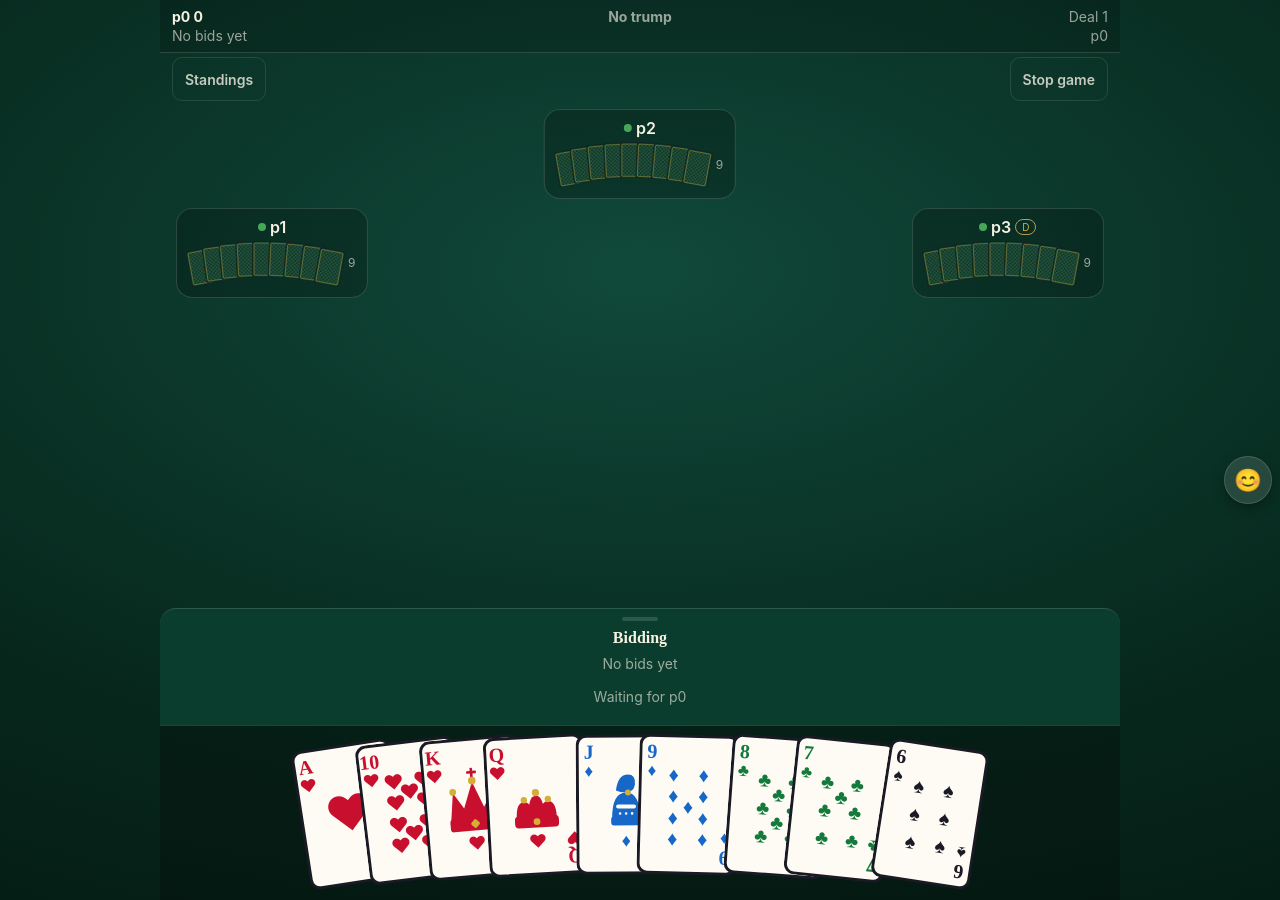
Test: host stop game › the host stops the game only after confirming; cancel aborts
// Opening the confirm does NOT stop the game on its own.
Click the button "Stop game" at [1059, 79], box [1010, 57, 1108, 101]
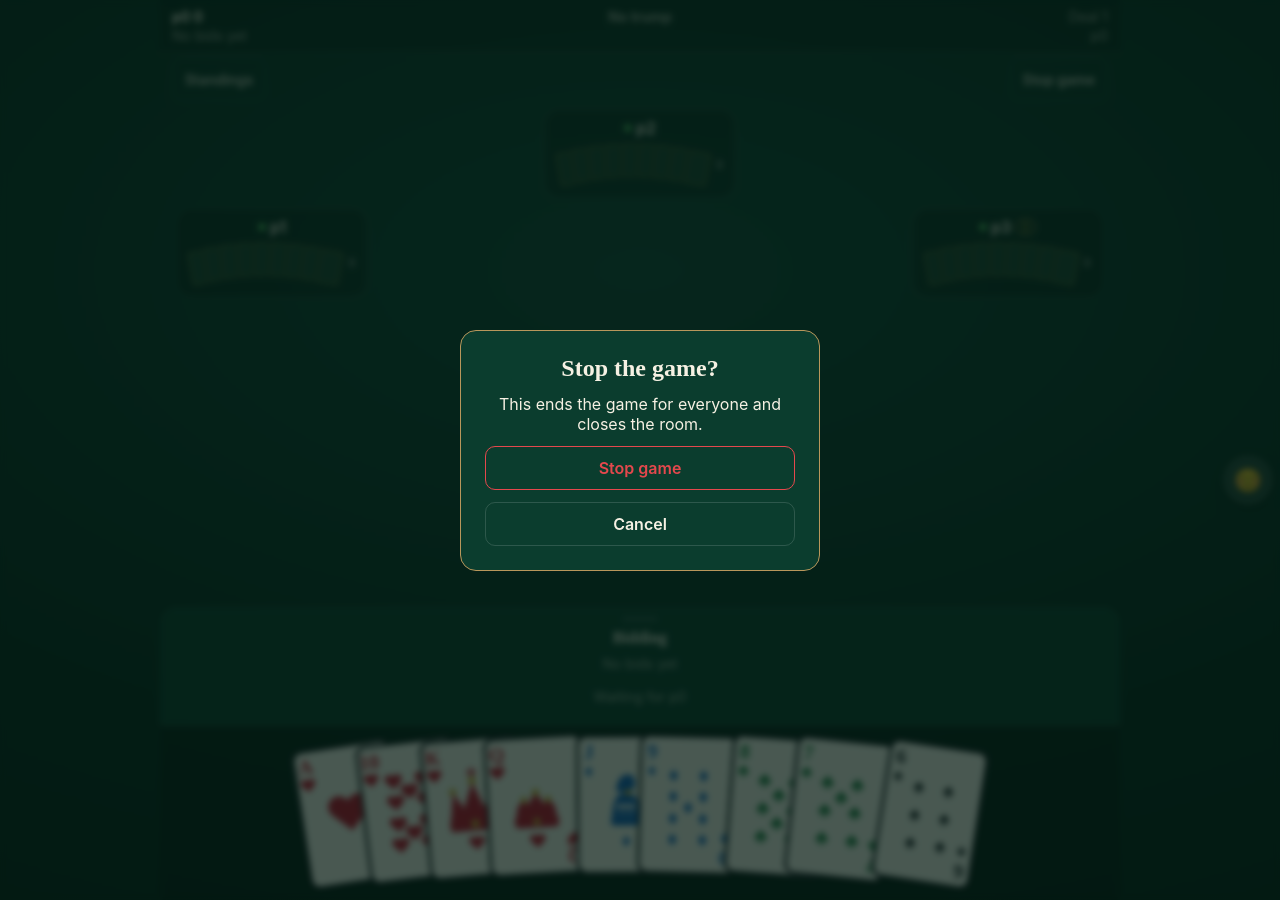
Expected: the heading "Stop the game?" is shown, [561, 354, 719, 380]
Click the button "Cancel" at [640, 524], box [485, 502, 795, 546]
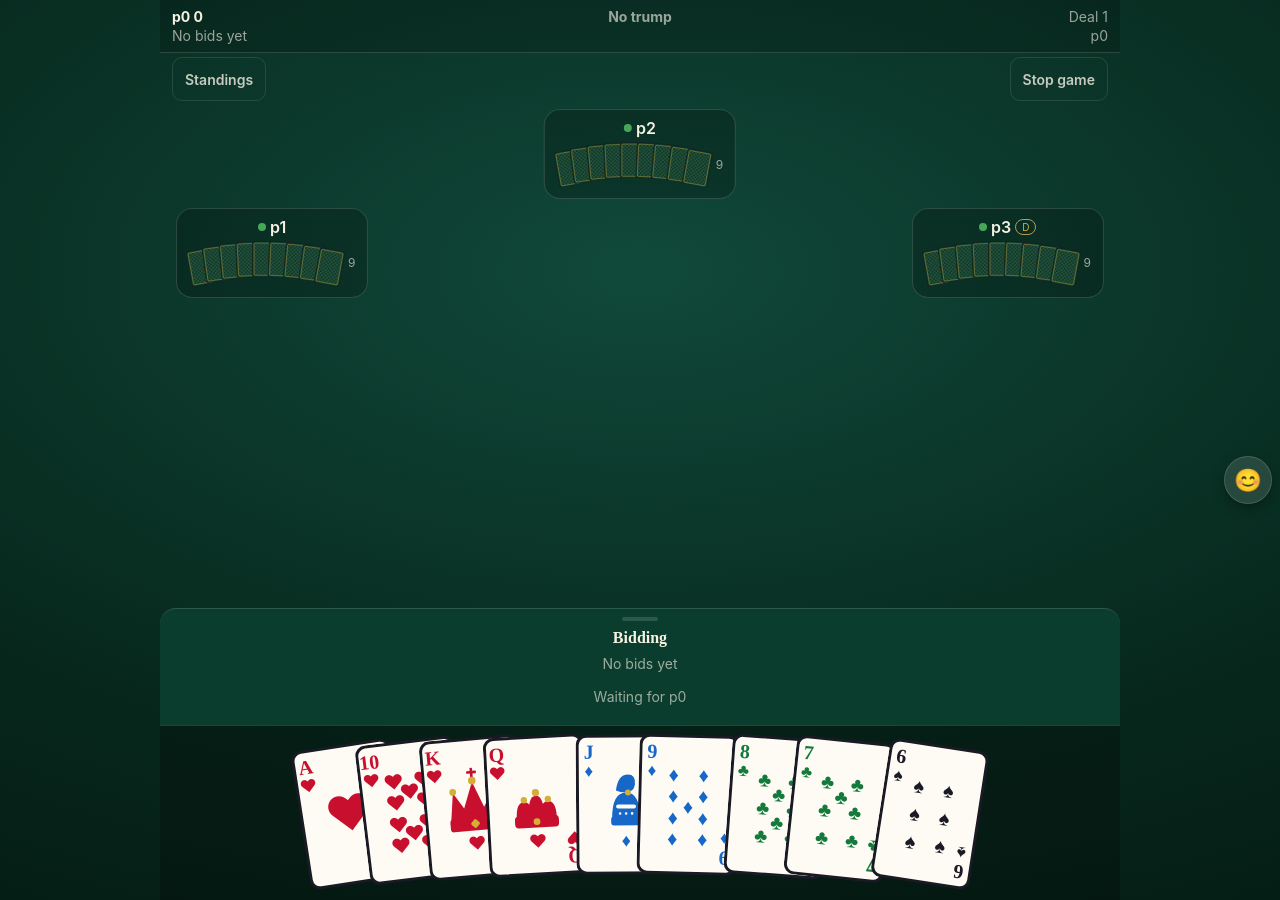
Expected: the heading "Stop the game?" is gone
// Confirming sends the stopMatch lobby command.
Click the button "Stop game" at [1059, 79], box [1010, 57, 1108, 101]
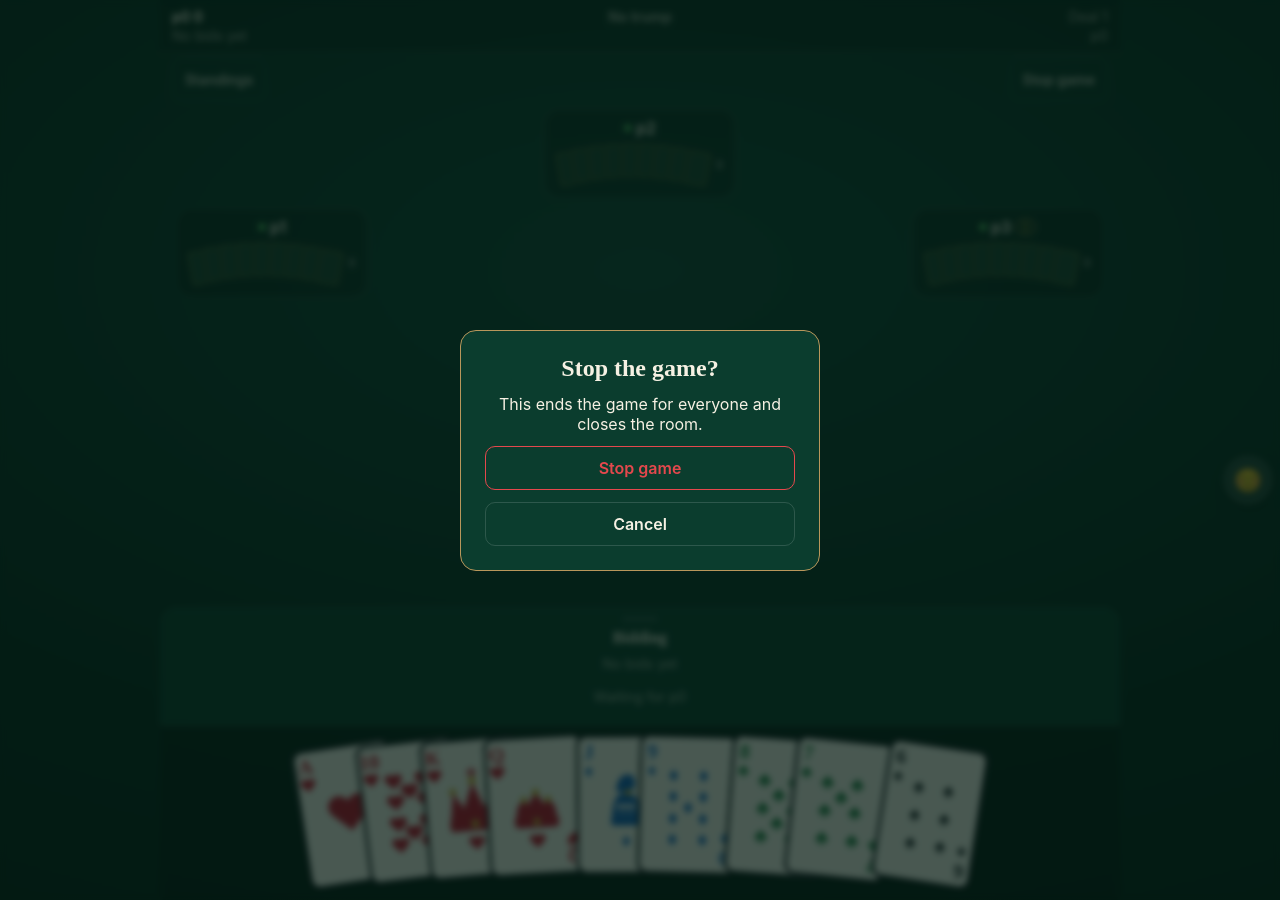
Click the button "Stop game" at [640, 468], box [485, 446, 795, 490]
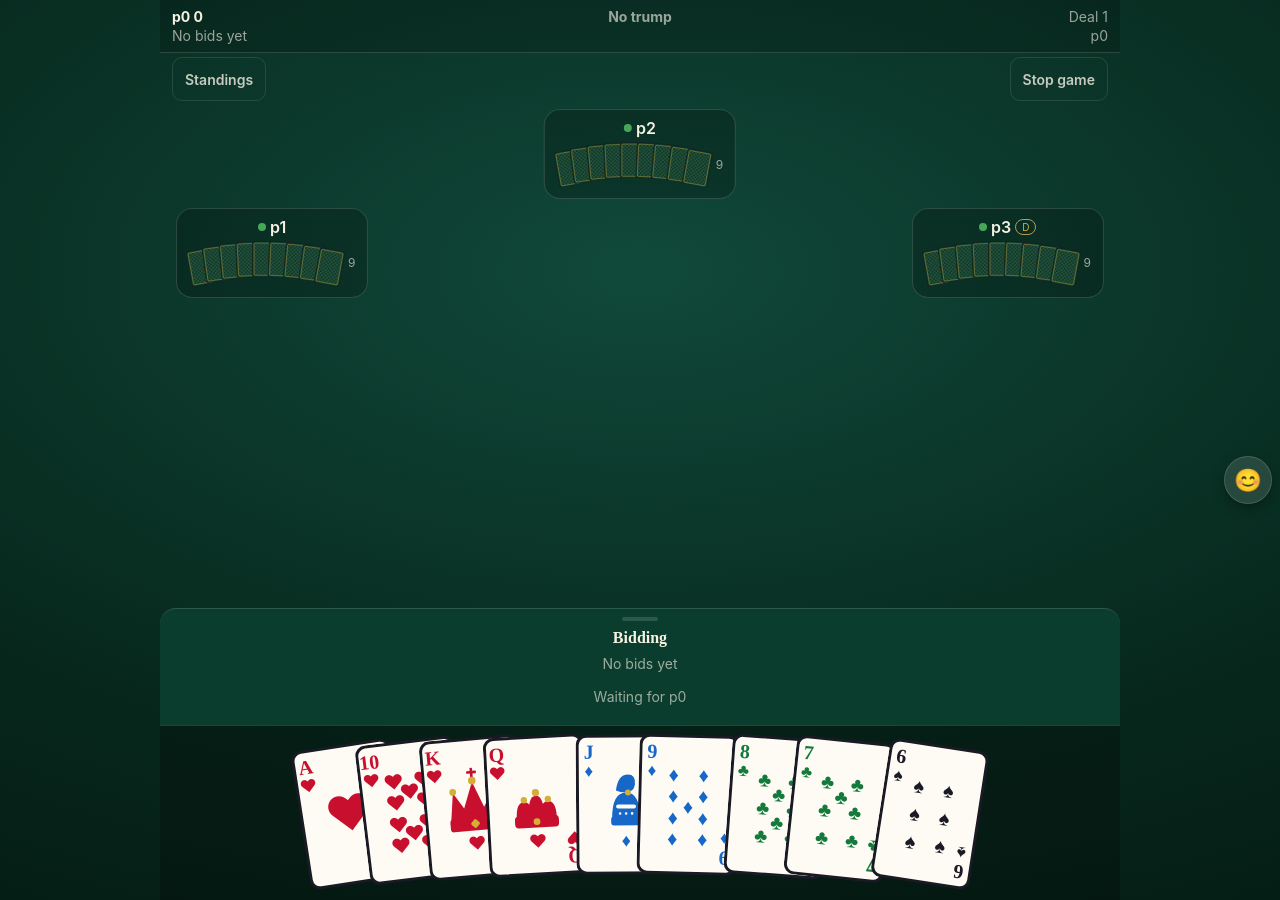
Expected: the heading "Stop the game?" is gone
